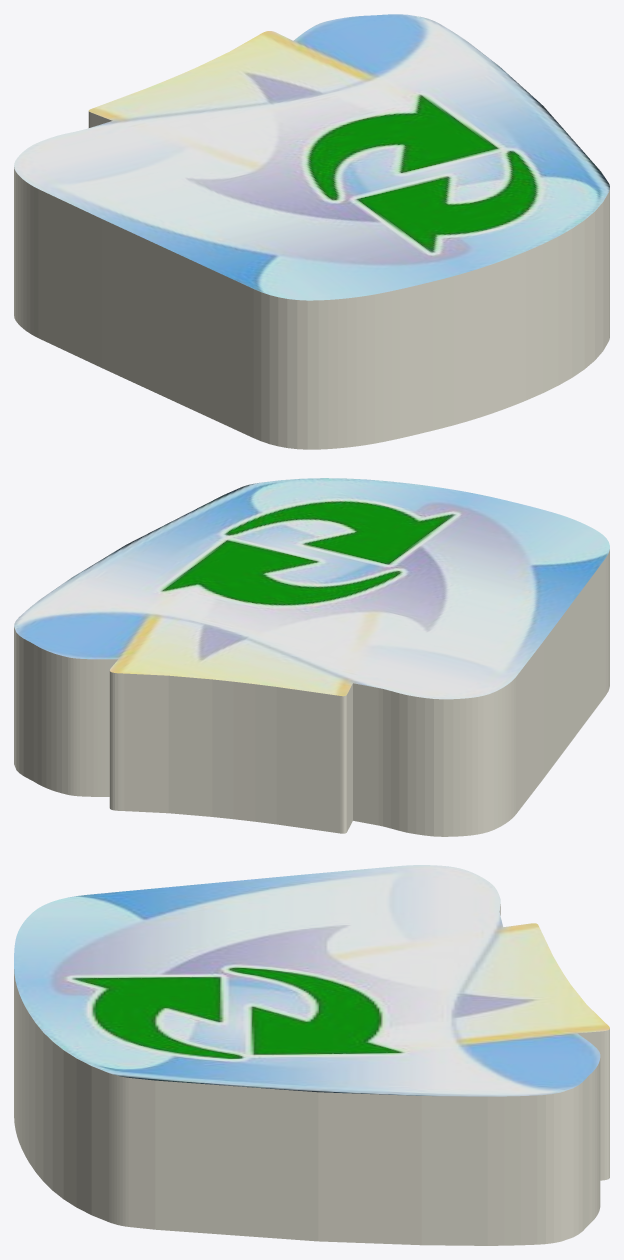
File: prullebak v2.FBX
The picture shows the model from 3 angles, top to bottom: view 1: azimuth 30°, elevation 25°; view 2: azimuth 150°, elevation 25°; view 3: azimuth 270°, elevation 25°; orthographic projection. The views are drawn at different scales.
Parts seen in each view (by area): view 1: Shape1; view 2: Shape1; view 3: Shape1.
Part boxes in pixels (left/top/right/bottom): Shape1: left=14, top=14, right=609, bottom=449; Shape1: left=14, top=478, right=609, bottom=836; Shape1: left=14, top=865, right=609, bottom=1245.
Size of the model in its own units: 33.32 by 10 by 36.21.
